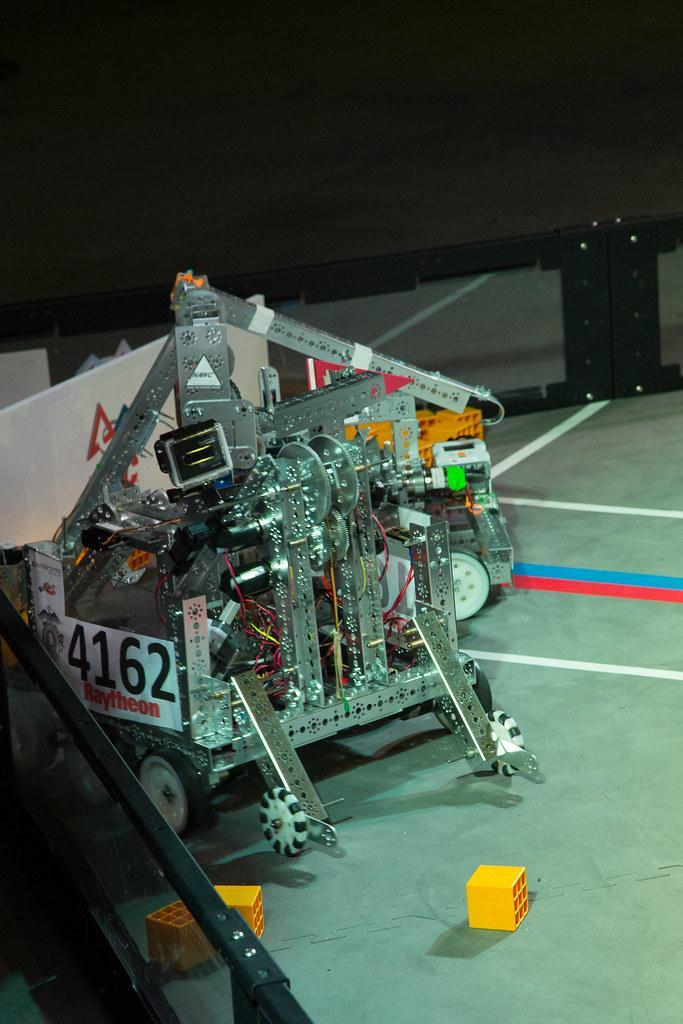robot: (0, 248, 526, 866)
